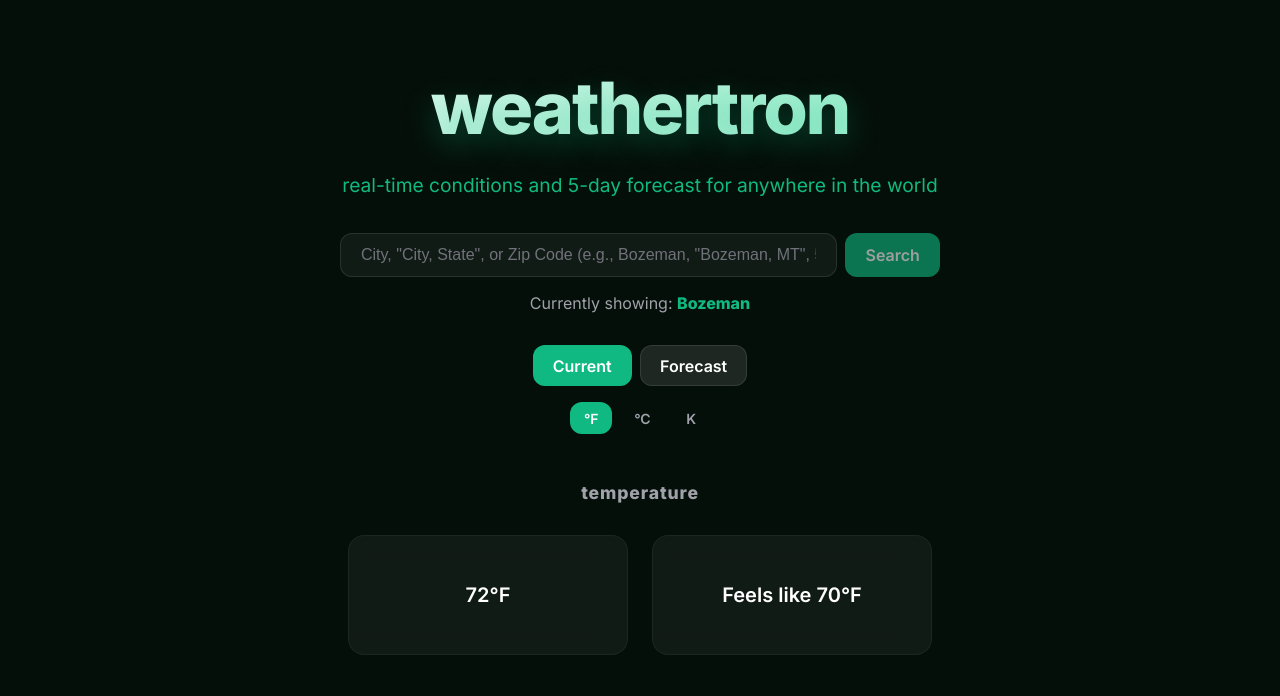
Test: Weather Component › switches back to current view
This screenshot has width=1280, height=696.
Switch to forecast
Click the button "Forecast".
click(694, 366)  # box [640,345,748,386]
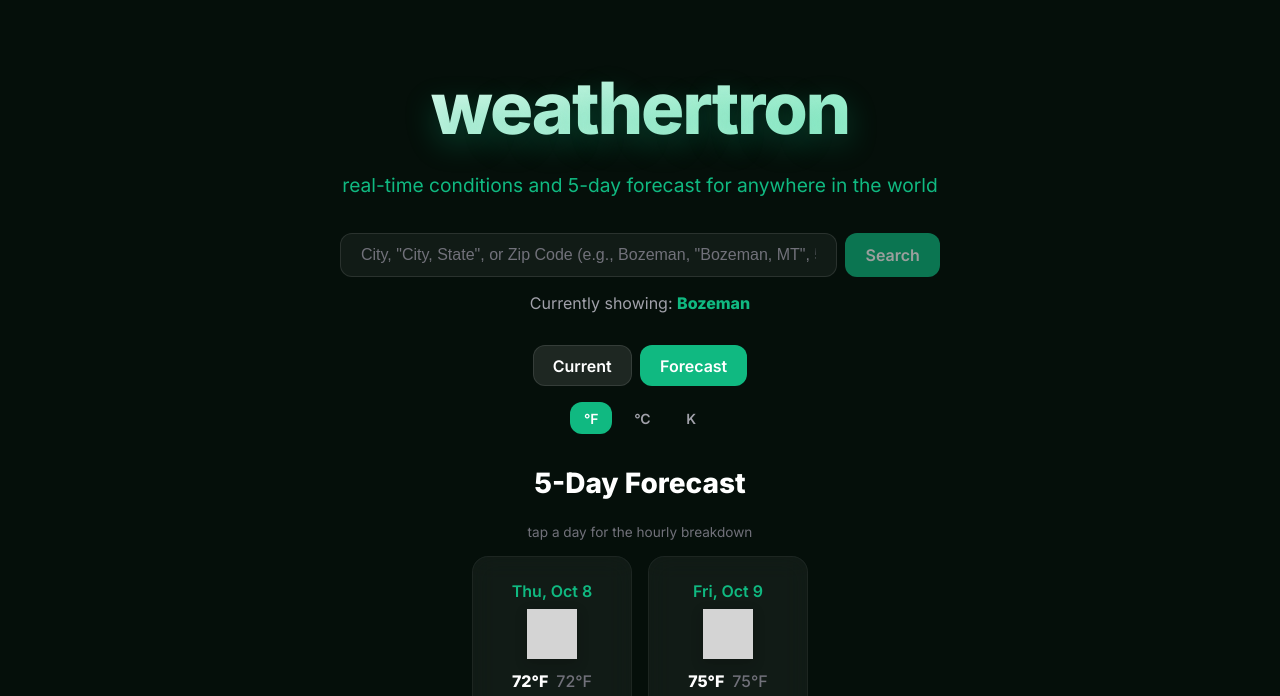
Switch back to current
Click the button "Current".
click(582, 366)  # box [532,345,632,386]
(page scrolled)
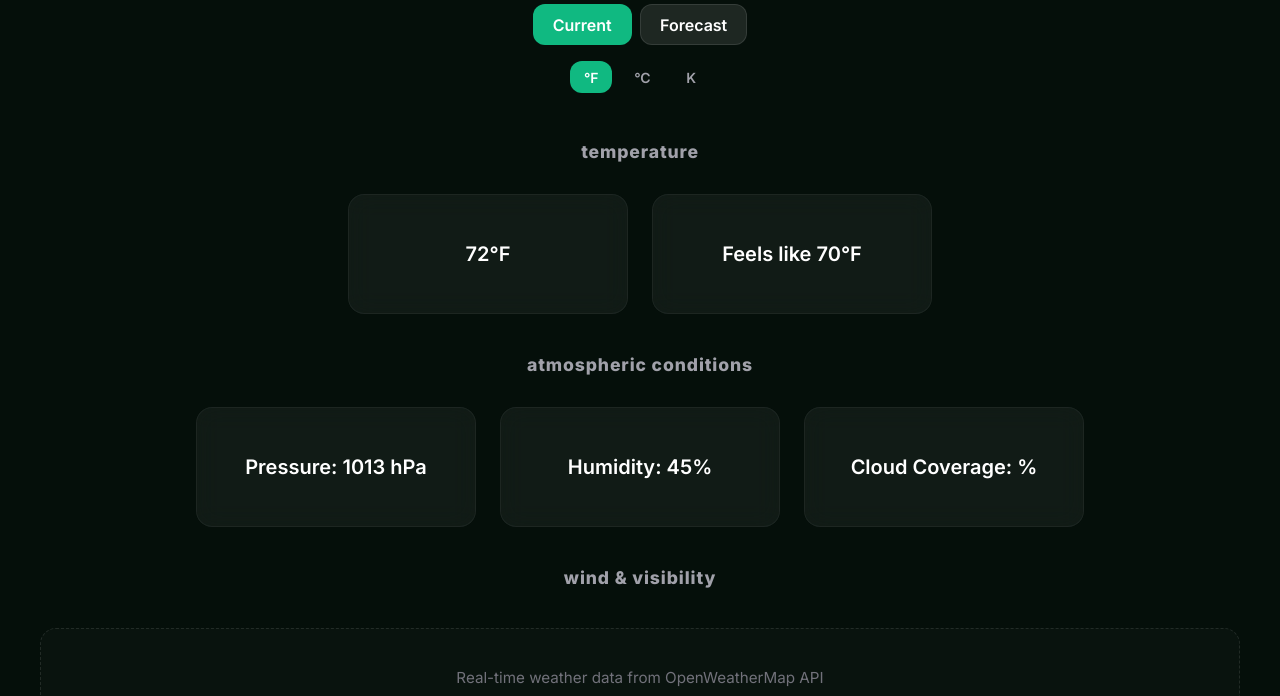
Check: the element with test id "weather-display" is shown, box [140,125,1140,596]
